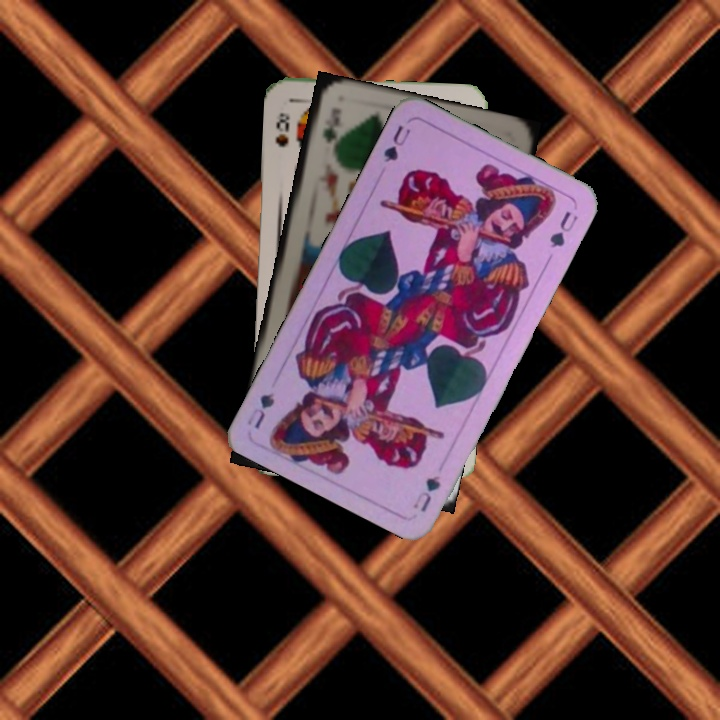GK: (318, 111, 343, 145)
GU: (409, 471, 444, 515), (379, 121, 413, 165)
S8: (271, 108, 292, 149)
